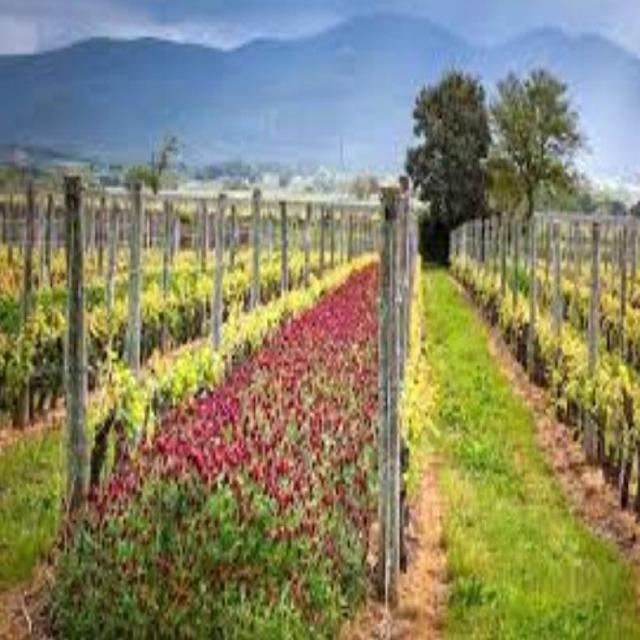row: (26, 256, 377, 640), (0, 267, 330, 537), (403, 266, 639, 639)
